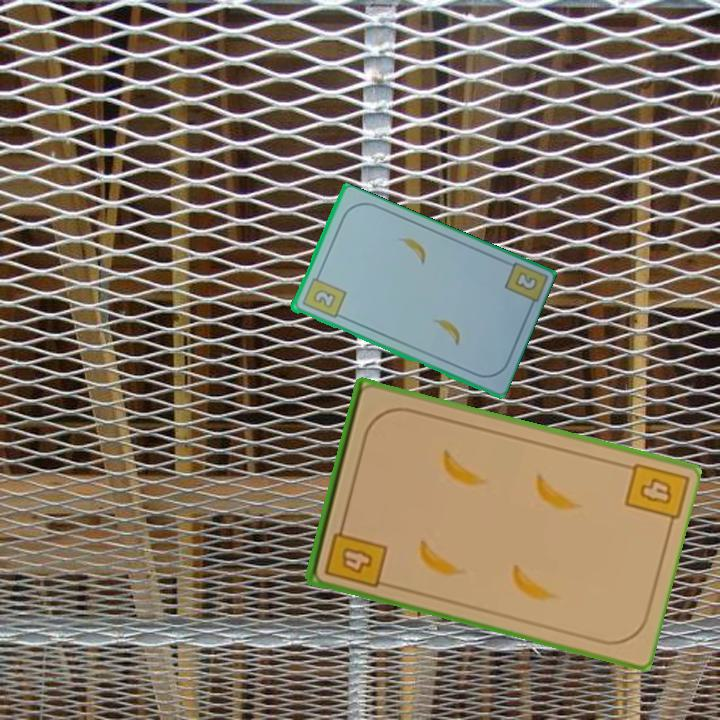2b: (298, 269, 349, 321), (511, 268, 540, 294)
4b: (321, 516, 389, 591), (636, 473, 676, 508)
